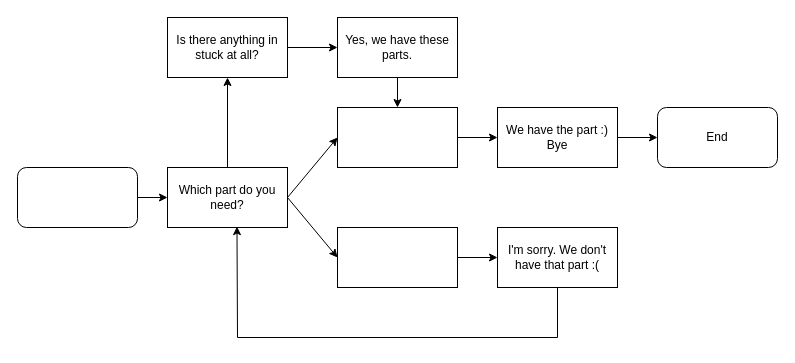
Some shapes in this 795 by 363 pixel diagram are drawn without their labels. The centre of each missing label's shape, as x and y in pixels:
Different part: point (397, 257)
Specific part: hydraulic pump, PLC module, Servo motor: point (397, 137)
Start: point (77, 197)
